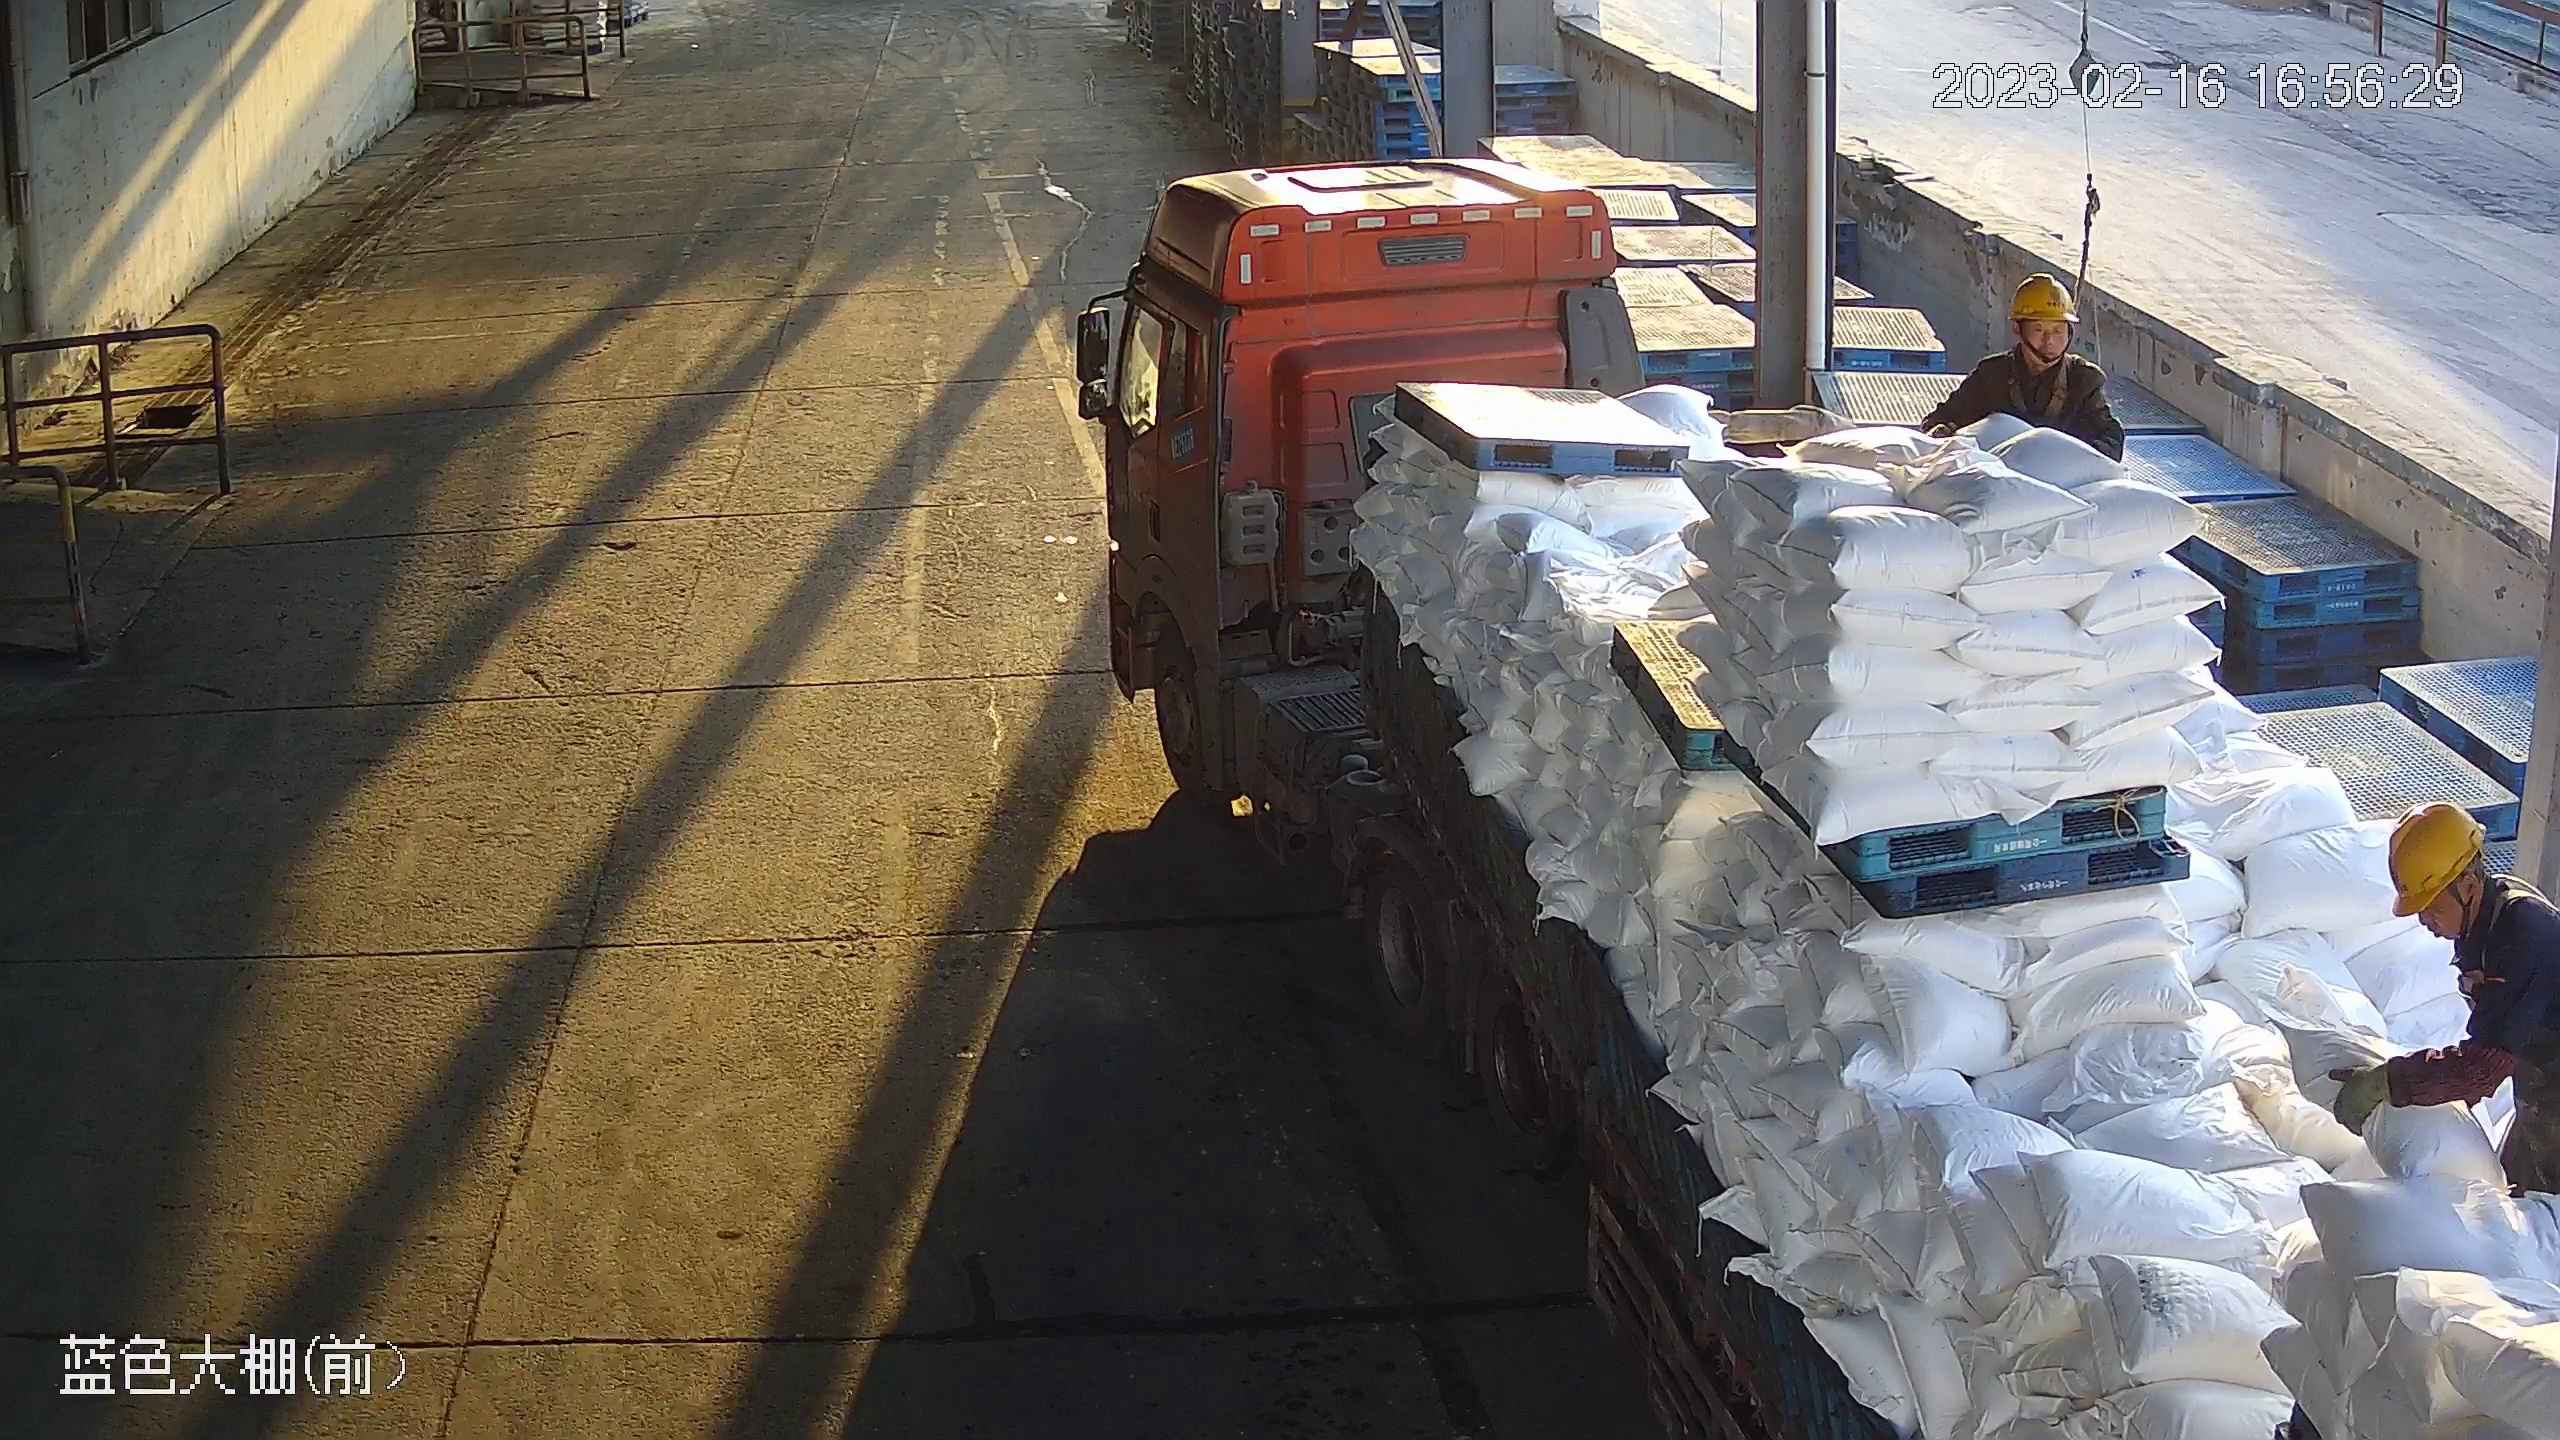belt: (2453, 888, 2555, 984), (1994, 351, 2072, 419)
head: (2370, 793, 2560, 1012), (1953, 266, 2125, 429)
helmet: (2375, 803, 2492, 919), (2003, 266, 2075, 323)
truck: (1064, 166, 2560, 1440)
